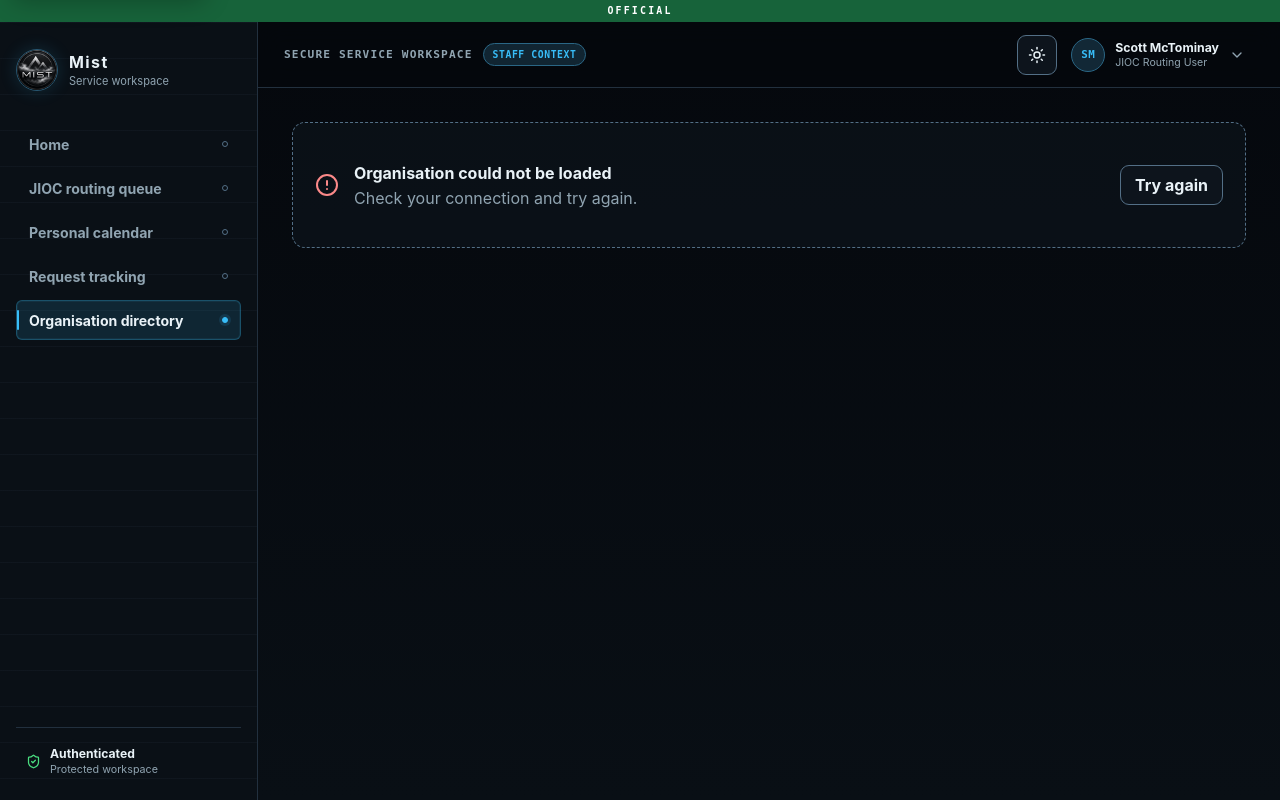
organisation hierarchy › recovers from an error and reports an empty configuration
expect the heading "Organisation could not be loaded" is shown: met, box [354,162,637,182]
Click the button "Try again". click: (1172, 185)
box: [1120,165,1223,205]
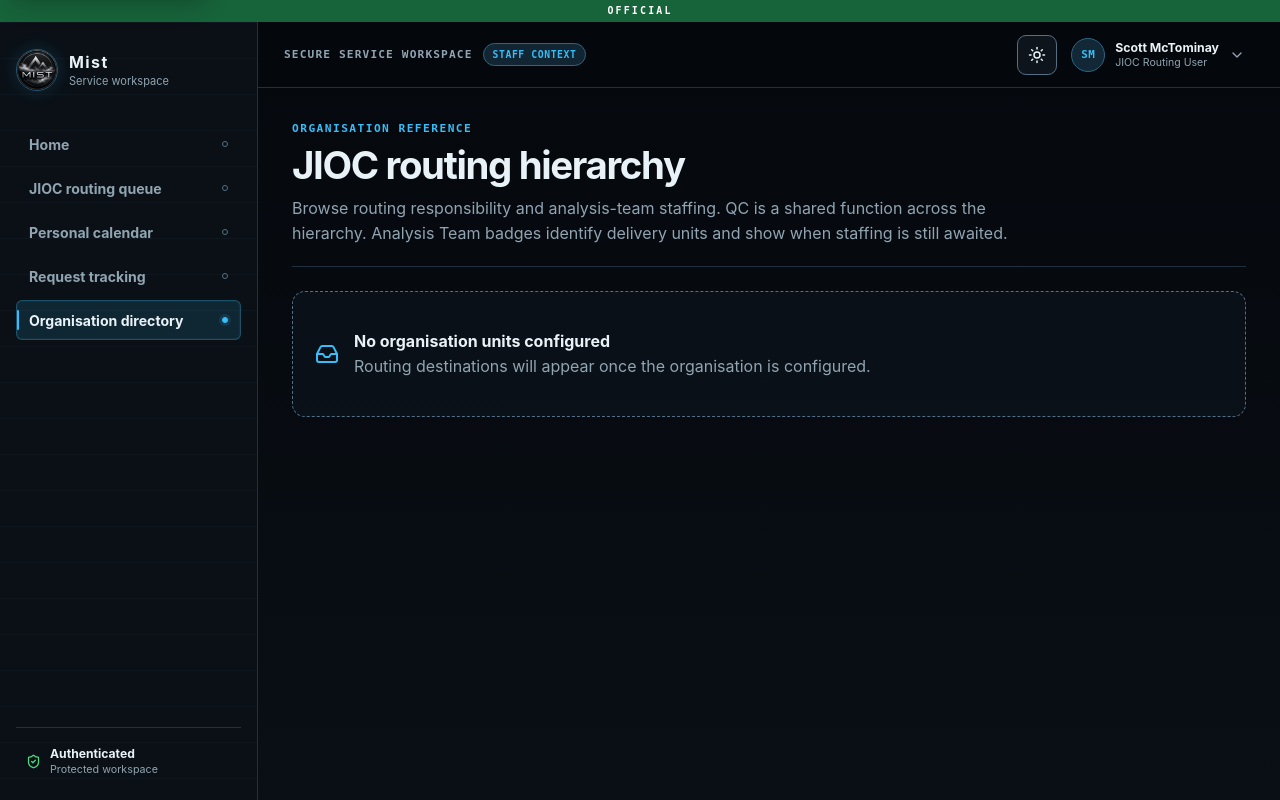
expect the heading "No organisation units configured" is shown: met, box [354,331,610,351]
